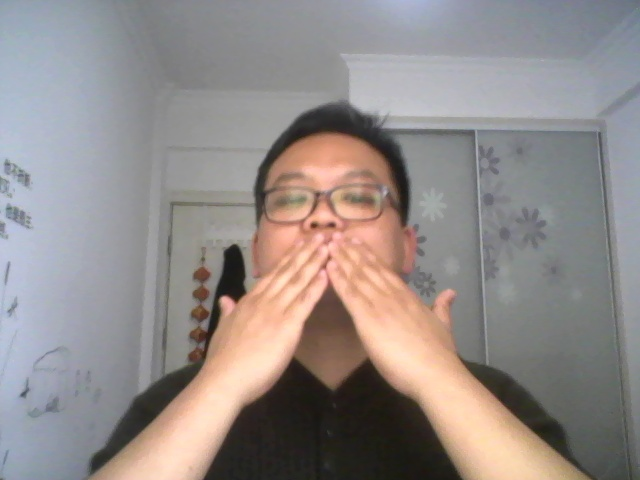Thank You: (191, 230, 475, 413)
